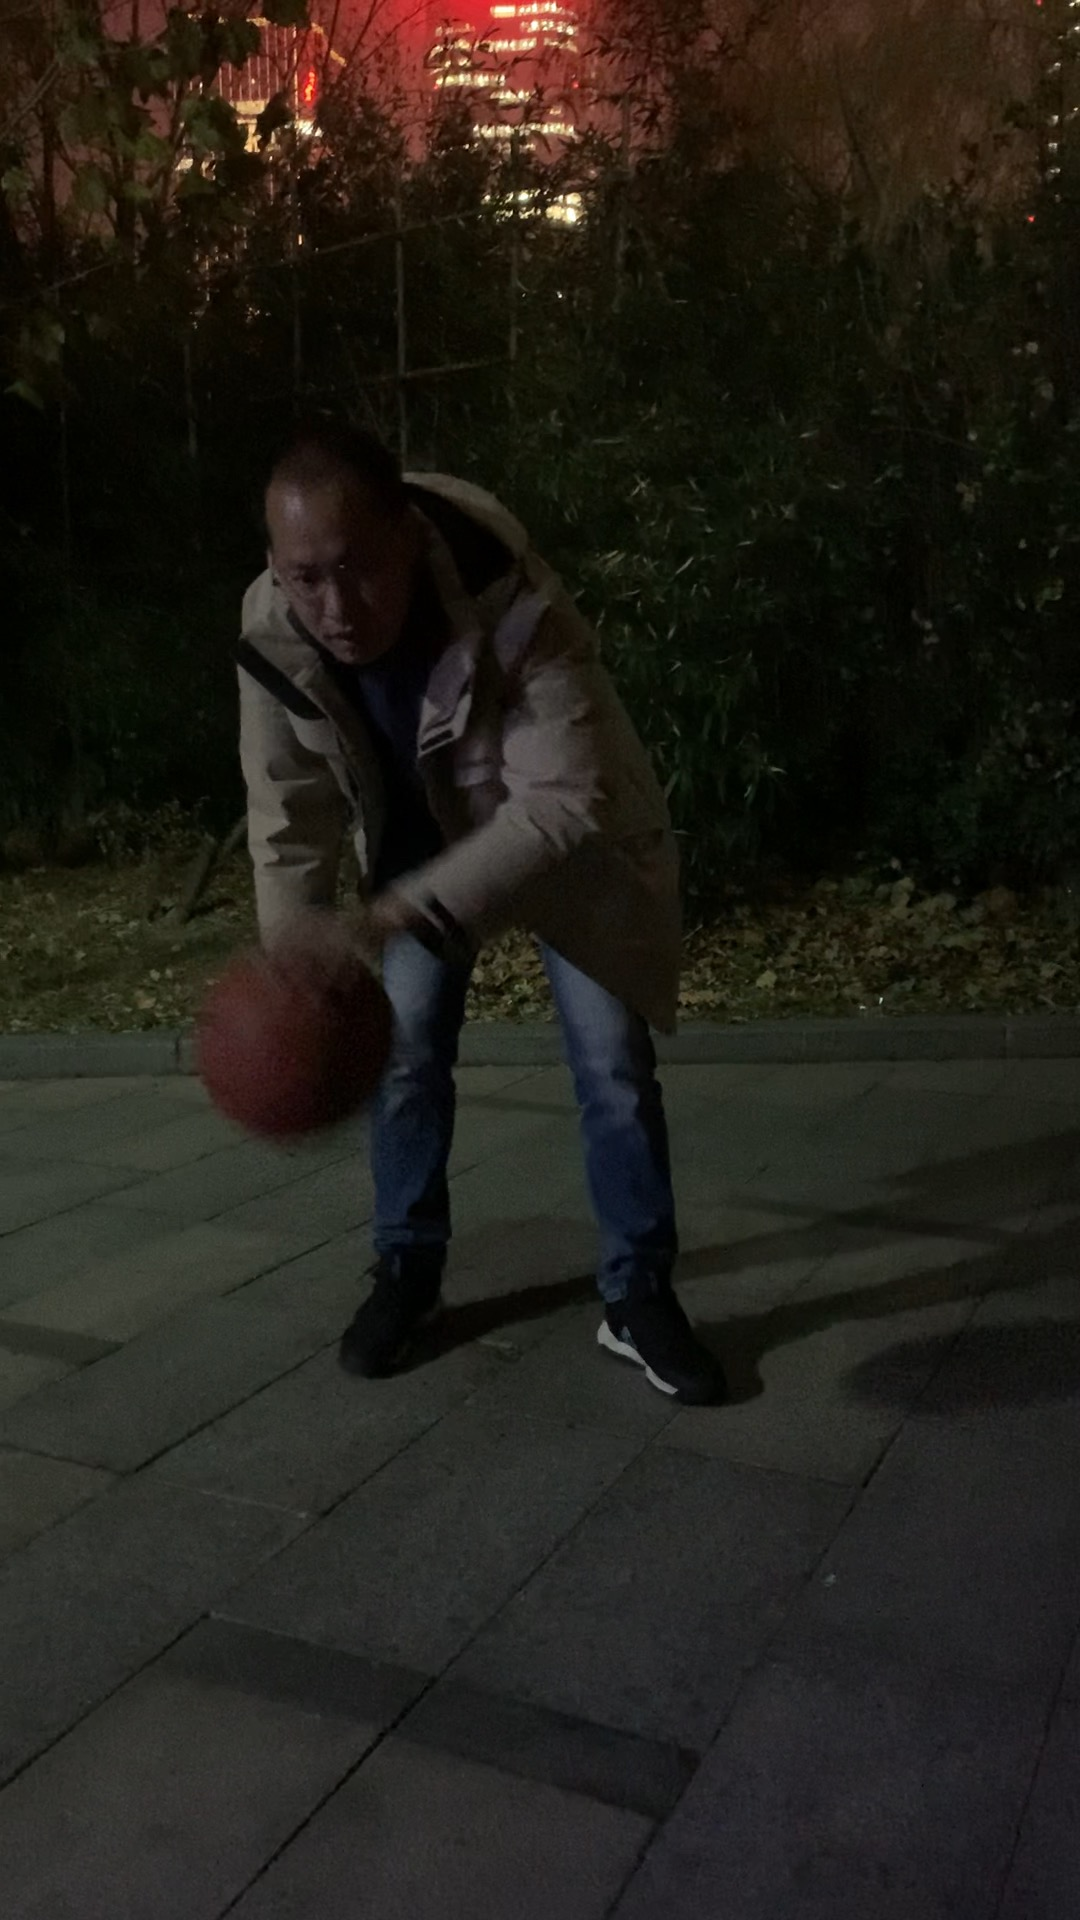ball: (196, 938, 400, 1143)
